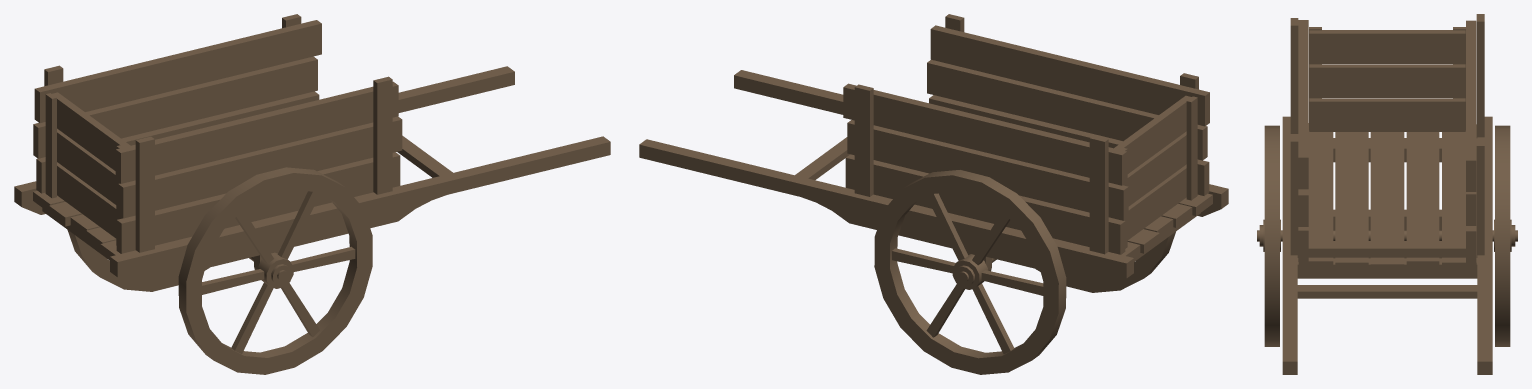
The model's file is wagon.fbx.
The picture shows the model from 3 angles, left to right: view 1: azimuth 30°, elevation 25°; view 2: azimuth 150°, elevation 25°; view 3: azimuth 270°, elevation 25°; orthographic projection. The views are drawn at different scales.
Visible parts, largest first — view 1: plate_right_low, plate_left_low, wheels_low, structure_bot_low, plate_back_low, plate_bot_low; view 2: plate_left_low, plate_right_low, wheels_low, structure_bot_low, plate_back_low, plate_bot_low; view 3: plate_bot_low, plate_back_low, structure_bot_low, wheels_low, plate_left_low, plate_right_low.
Boxes of the visible parts, left/top/right/bottom form: plate_right_low: left=115, top=76, right=402, bottom=253; plate_left_low: left=33, top=14, right=321, bottom=193; wheels_low: left=67, top=167, right=372, bottom=374; structure_bot_low: left=14, top=66, right=610, bottom=284; plate_back_low: left=45, top=92, right=130, bottom=245; plate_bot_low: left=33, top=191, right=120, bottom=259; plate_left_low: left=843, top=83, right=1128, bottom=254; plate_right_low: left=927, top=14, right=1209, bottom=195; wheels_low: left=874, top=170, right=1175, bottom=374; structure_bot_low: left=639, top=70, right=1228, bottom=286; plate_back_low: left=1114, top=95, right=1197, bottom=248; plate_bot_low: left=1121, top=193, right=1212, bottom=258; plate_bot_low: left=1298, top=123, right=1476, bottom=273; plate_back_low: left=1309, top=27, right=1465, bottom=131; structure_bot_low: left=1282, top=116, right=1492, bottom=374; wheels_low: left=1257, top=125, right=1517, bottom=346; plate_left_low: left=1466, top=14, right=1484, bottom=262; plate_right_low: left=1290, top=18, right=1308, bottom=261.
Bounding box in the file's own units: 310 × 152 × 139.
